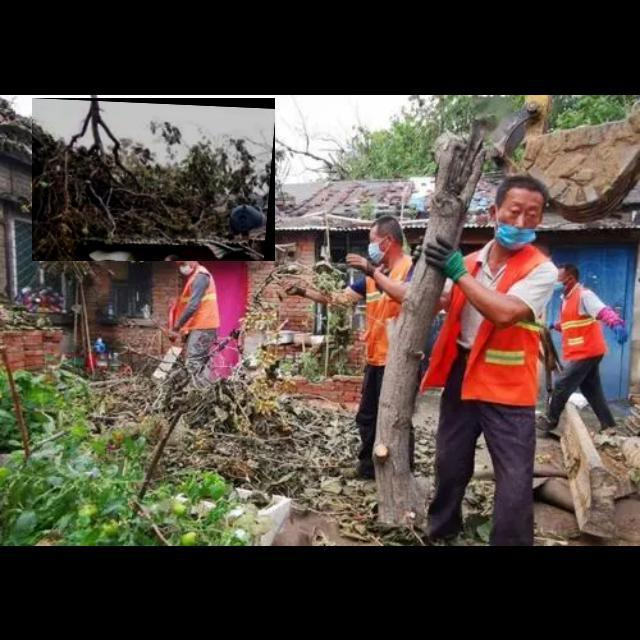fallen_tree: (32, 98, 276, 262)
